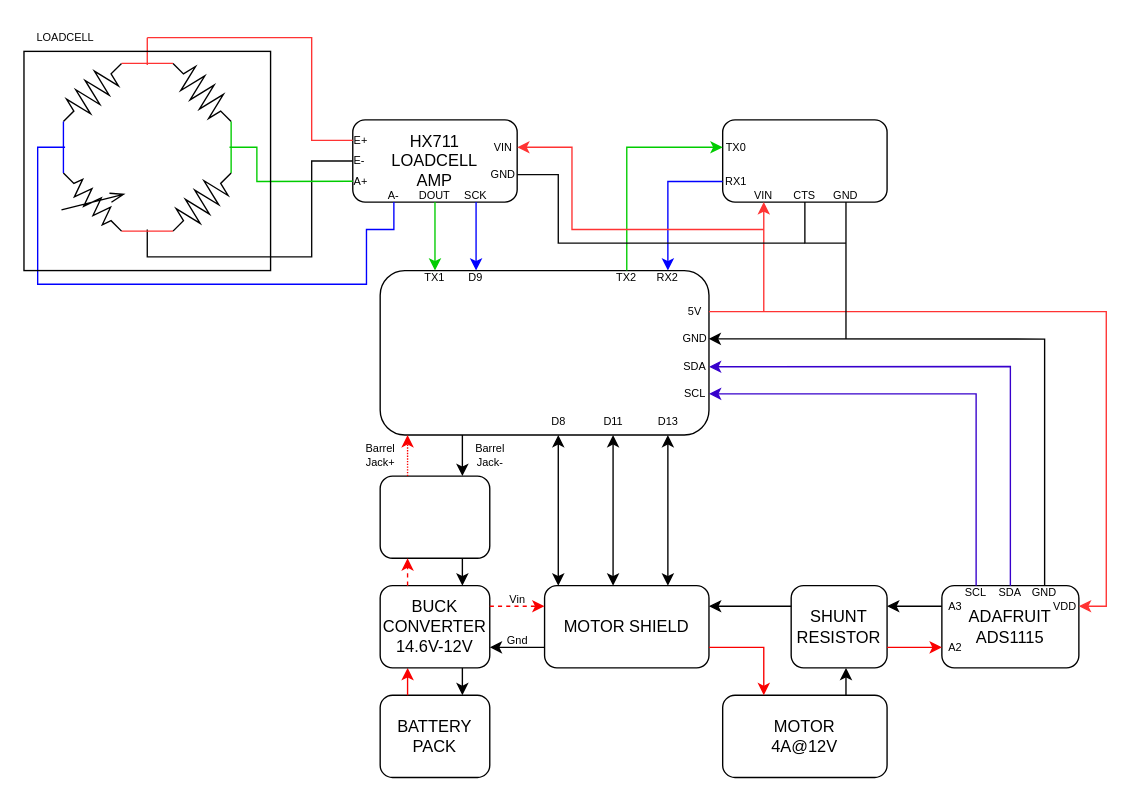
Image size: 1141x801. Some labels were removed from this diagram. Each missing label, with the box of its shape:
ADADFRUIT BLE UART FRIEND: (721, 119, 887, 202)
ARDUINO MEGA: (379, 269, 709, 435)
BUCK CONVERTER 12V-5V: (379, 475, 490, 558)
